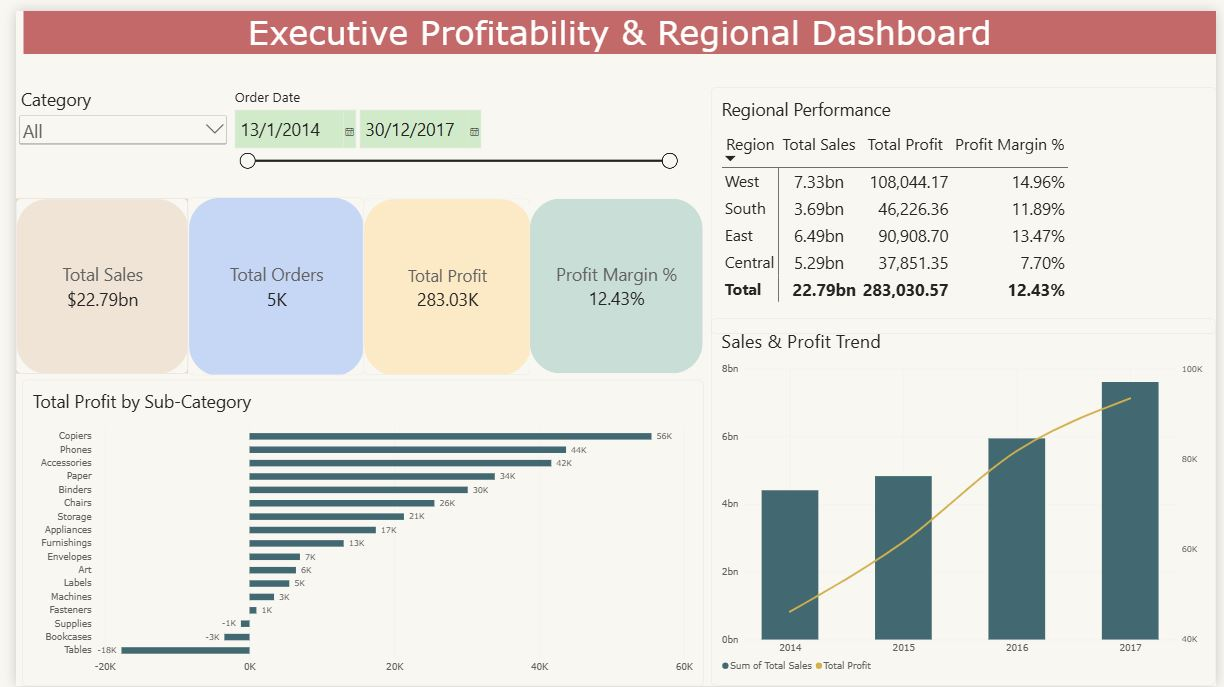

The page's visual inventory and layout, read from the dashboard file:
{"tool":"powerbi","page":{"name":"Page 1","canvas":[1920,1080],"ordinal":0},"visuals":[{"type":"cardVisual","fields":{"Data":["Sales.Total Profit"]},"box":[555,300,267.5,282.5],"z":0},{"type":"cardVisual","fields":{"Data":["Sales.Profit Margin %"]},"box":[822.5,300,277.5,280],"z":1000},{"type":"cardVisual","fields":{"Data":["Sales.Total Orders"]},"box":[275,297.5,280,285],"z":2000},{"type":"lineClusteredColumnComboChart","title":"Sales & Profit Trend","fields":{"Category":["Sales.Order Date.Variation.Date Hierarchy.Year","Sales.Order Date.Variation.Date Hierarchy.Quarter","Sales.Order Date.Variation.Date Hierarchy.Month","Sales.Order Date.Variation.Date Hierarchy.Day"],"Y":["Sum(Sales.Sales)"],"Y2":["Sales.Total Profit"]},"box":[1112.8,516,789.2,564.5],"z":3000},{"type":"clusteredBarChart","fields":{"Category":["Sales.Sub-Category"],"Y":["Sales.Total Profit"]},"box":[10,590,1090,490],"z":4000},{"type":"pivotTable","title":"Regional Performance","fields":{"Rows":["Sales.Region"],"Values":["Sales.Total Profit","Sales.Profit Margin %","Sales.Total Sales Correct"]},"box":[1111.4,122.9,808.6,394.3],"z":5000},{"type":"textbox","box":[11.4,0,1908.6,68.6],"z":6000},{"type":"slicer","fields":{"Values":["Sales.Category"]},"box":[0,122.5,342.5,140],"z":7000},{"type":"slicer","fields":{"Values":["Sales.Order Date"]},"box":[342.9,122.9,720,177.1],"z":8000},{"type":"cardVisual","fields":{"Data":["Sales.Total Sales"]},"box":[0,301.2,275.3,278.8],"z":9000}]}

Visuals, with their boxes in screenshot pixels (x1, y1, x2, y2), scaled from the page's 1920x1080 canvas onto the 1224x687 screenshot:
cardVisual - Sales.Total Profit: box(354, 191, 524, 371)
cardVisual - Sales.Profit Margin %: box(524, 191, 701, 369)
cardVisual - Sales.Total Orders: box(175, 189, 354, 371)
"Sales & Profit Trend" lineClusteredColumnComboChart: box(709, 328, 1213, 686)
clusteredBarChart - Sales.Sub-Category x Sales.Total Profit: box(6, 375, 701, 686)
"Regional Performance" pivotTable: box(709, 78, 1223, 329)
textbox: box(7, 0, 1223, 44)
slicer - Sales.Category: box(0, 78, 218, 167)
slicer - Sales.Order Date: box(219, 78, 678, 191)
cardVisual - Sales.Total Sales: box(0, 192, 176, 369)
